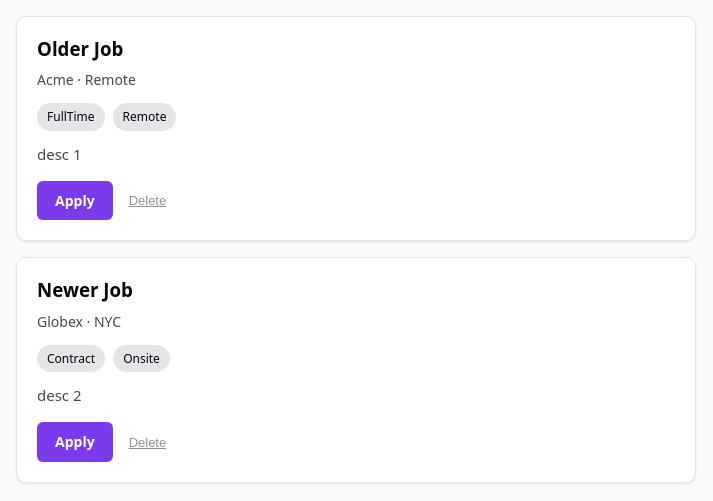
Scenario: JobList › deletes the job when the confirmation is accepted
What coordinates should you click on to do the following:
click the button "Delete" below "Older Job"
I would click on:
 (147, 201)
Its box is [129,193,166,208].
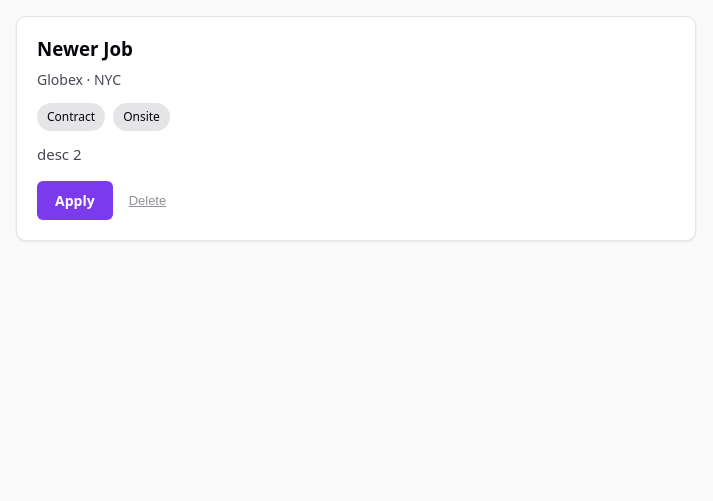
expect the heading "Older Job" is gone: met
